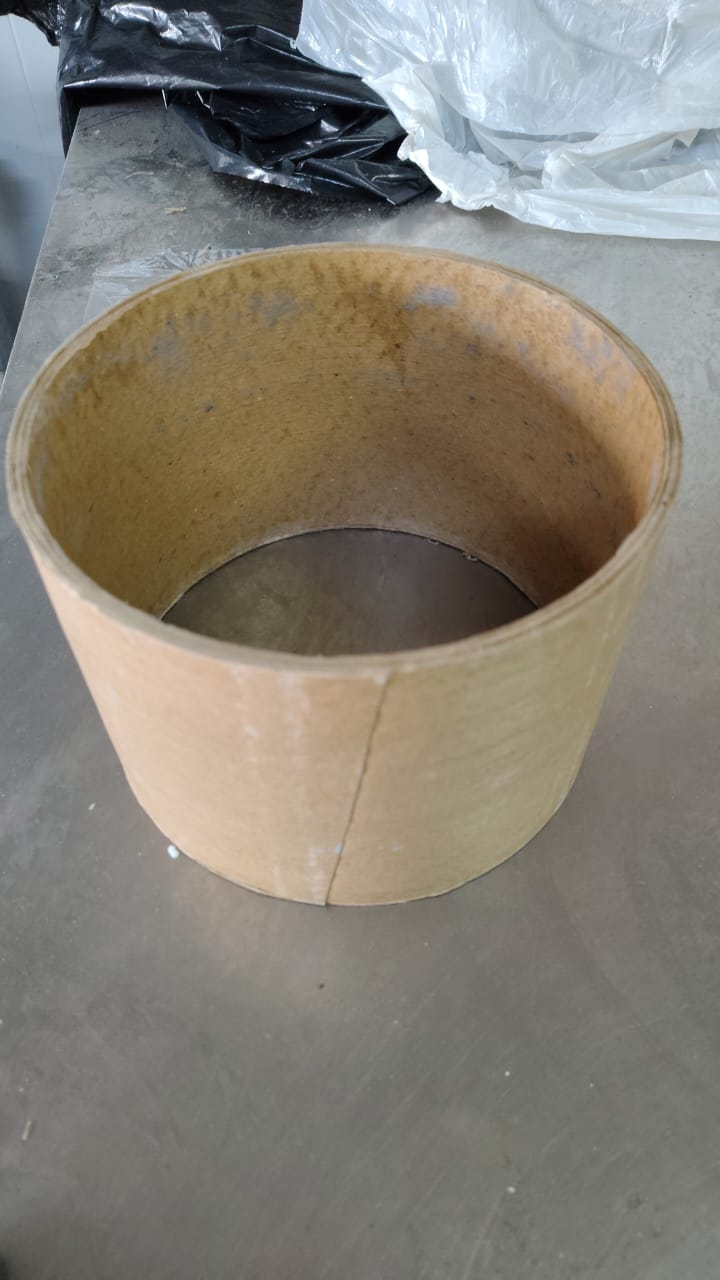Carton: (5, 245, 696, 909)
